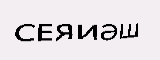Е: (38, 22, 55, 43)
И: (77, 20, 99, 42)
С: (12, 21, 36, 41)
Ш: (119, 18, 142, 40)
Я: (54, 19, 74, 42)
Ә: (101, 20, 117, 42)
